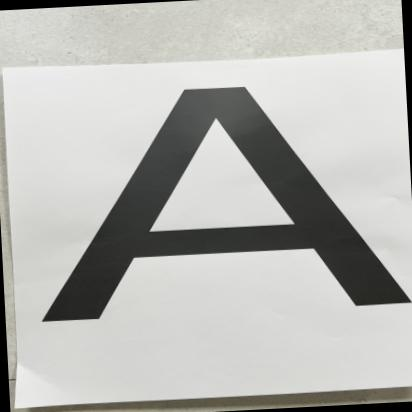seat: (8, 57, 412, 339)
